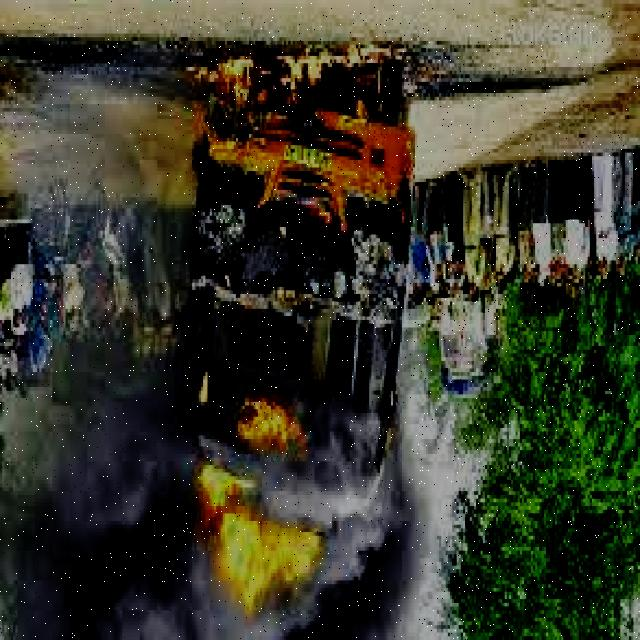api: (202, 24, 416, 206), (187, 466, 349, 611), (217, 369, 307, 459)
